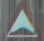Speed Breaker ahead: (5, 2, 40, 39)
